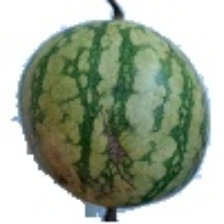watermelon: (50, 38, 216, 190)
